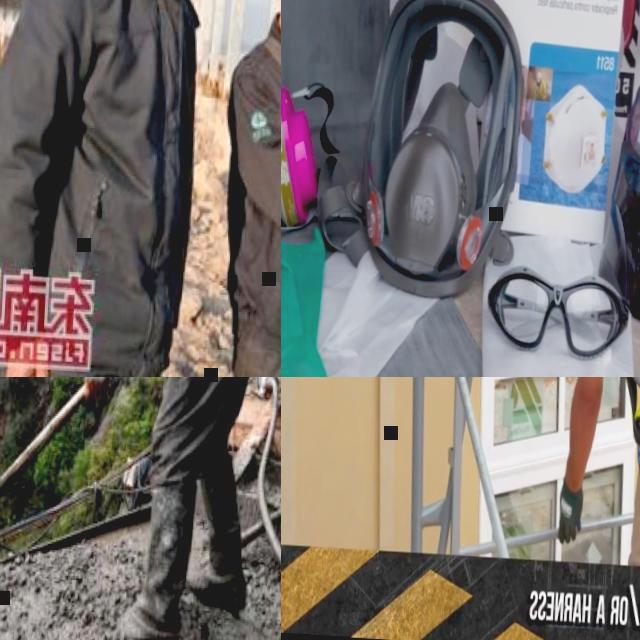mask: (354, 0, 533, 299), (281, 34, 368, 256), (593, 159, 640, 329)
no_vest: (30, 0, 198, 366), (226, 54, 281, 327)
person: (0, 0, 236, 377), (49, 377, 281, 640), (211, 0, 281, 377), (533, 377, 640, 571)
